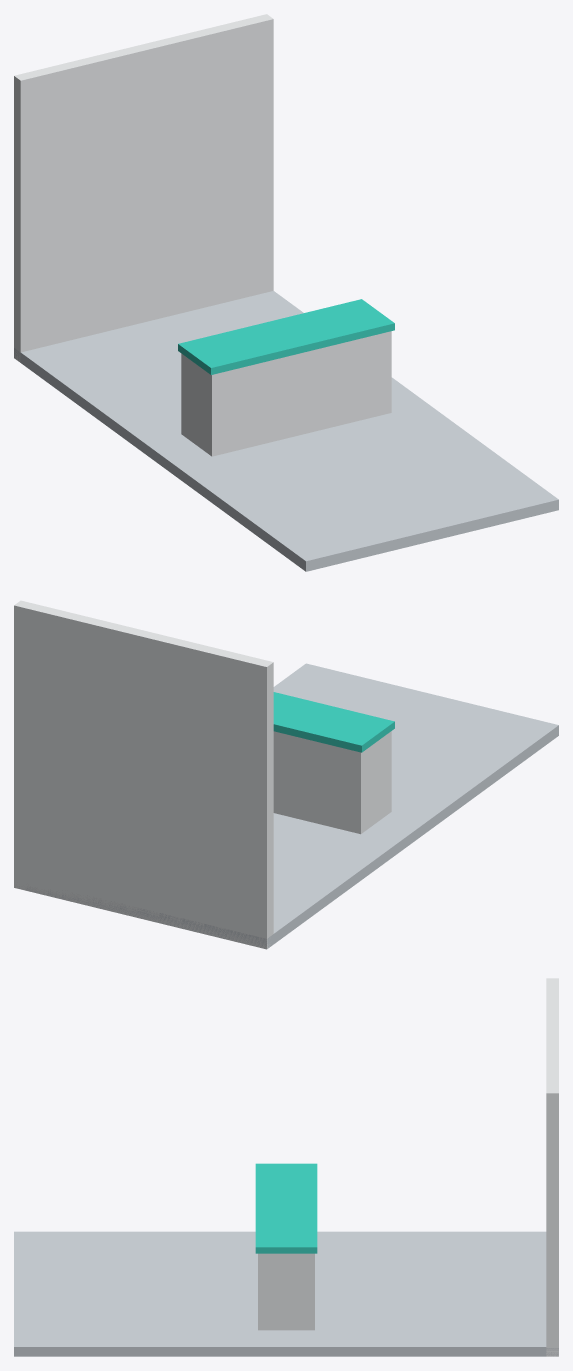
3 renders of one model, top to bottom at view 1: azimuth 30°, elevation 25°; view 2: azimuth 150°, elevation 25°; view 3: azimuth 270°, elevation 25°, orthographic. The views are drawn at different scales.
Parts seen in each view (by area): view 1: Exhibition Booth Concept; view 2: Exhibition Booth Concept; view 3: Exhibition Booth Concept.
Boxes of the visible parts, left/top/right/bottom form: Exhibition Booth Concept: left=14, top=14, right=558, bottom=571; Exhibition Booth Concept: left=14, top=600, right=558, bottom=949; Exhibition Booth Concept: left=14, top=978, right=558, bottom=1356.
Bounding box in the file's own units: 3 × 3.2 × 6.
